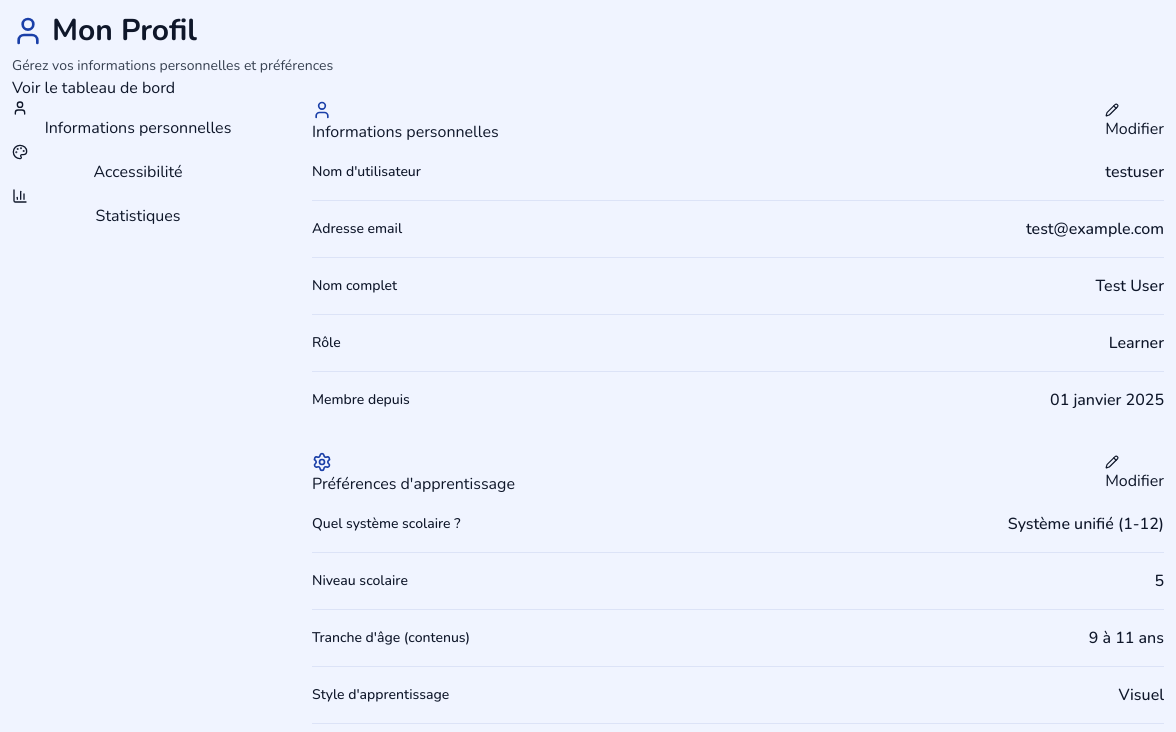
Test: ProfilePage › shows an EmptyState when statistics loading fails
Click the button "Statistiques".
click(138, 208)  # box [12, 188, 264, 228]
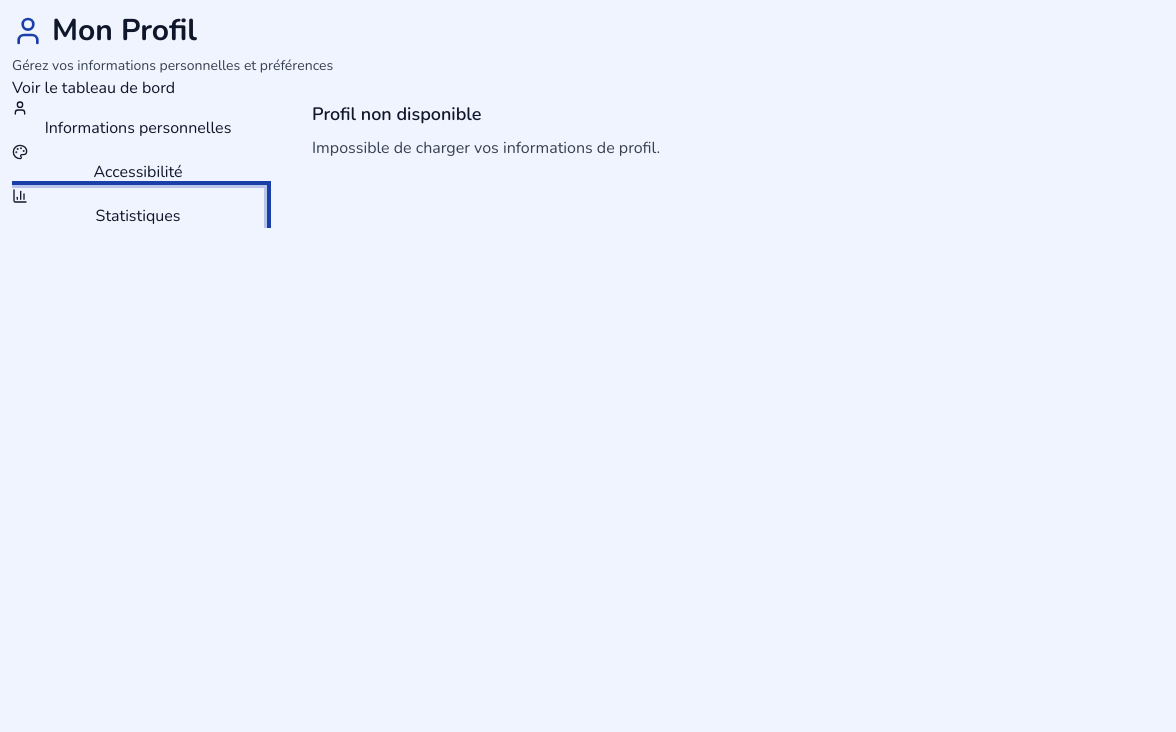
Now the heading "Profil non disponible" is shown, box [312, 102, 481, 126]
